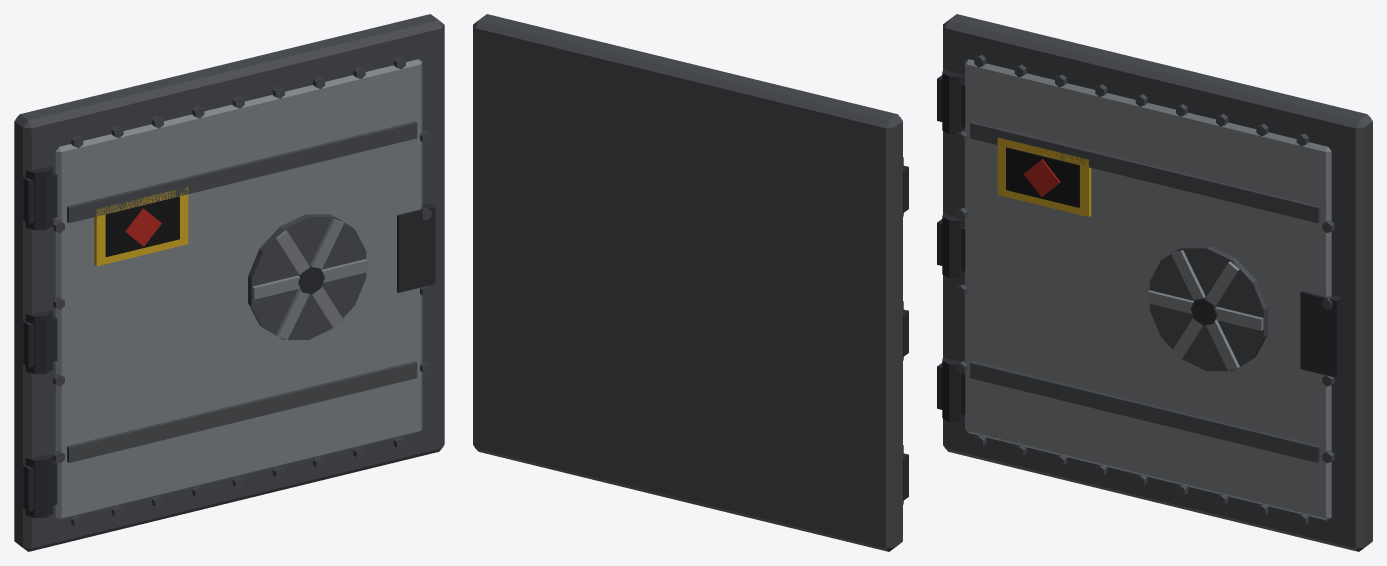
The model's file is blast_door_leaf.fbx.
The picture shows the model from 3 angles, left to right: view 1: azimuth 30°, elevation 25°; view 2: azimuth 150°, elevation 25°; view 3: azimuth 330°, elevation 25°; orthographic projection.
Parts seen in each view (by area): view 1: blast_door_leaf; view 2: blast_door_leaf; view 3: blast_door_leaf.
Part boxes in pixels (<box>): blast_door_leaf: <box>14,14,444,551</box>; blast_door_leaf: <box>473,14,908,551</box>; blast_door_leaf: <box>937,14,1372,551</box>.
Size of the model in its own units: 2.3 by 2.25 by 0.245.
